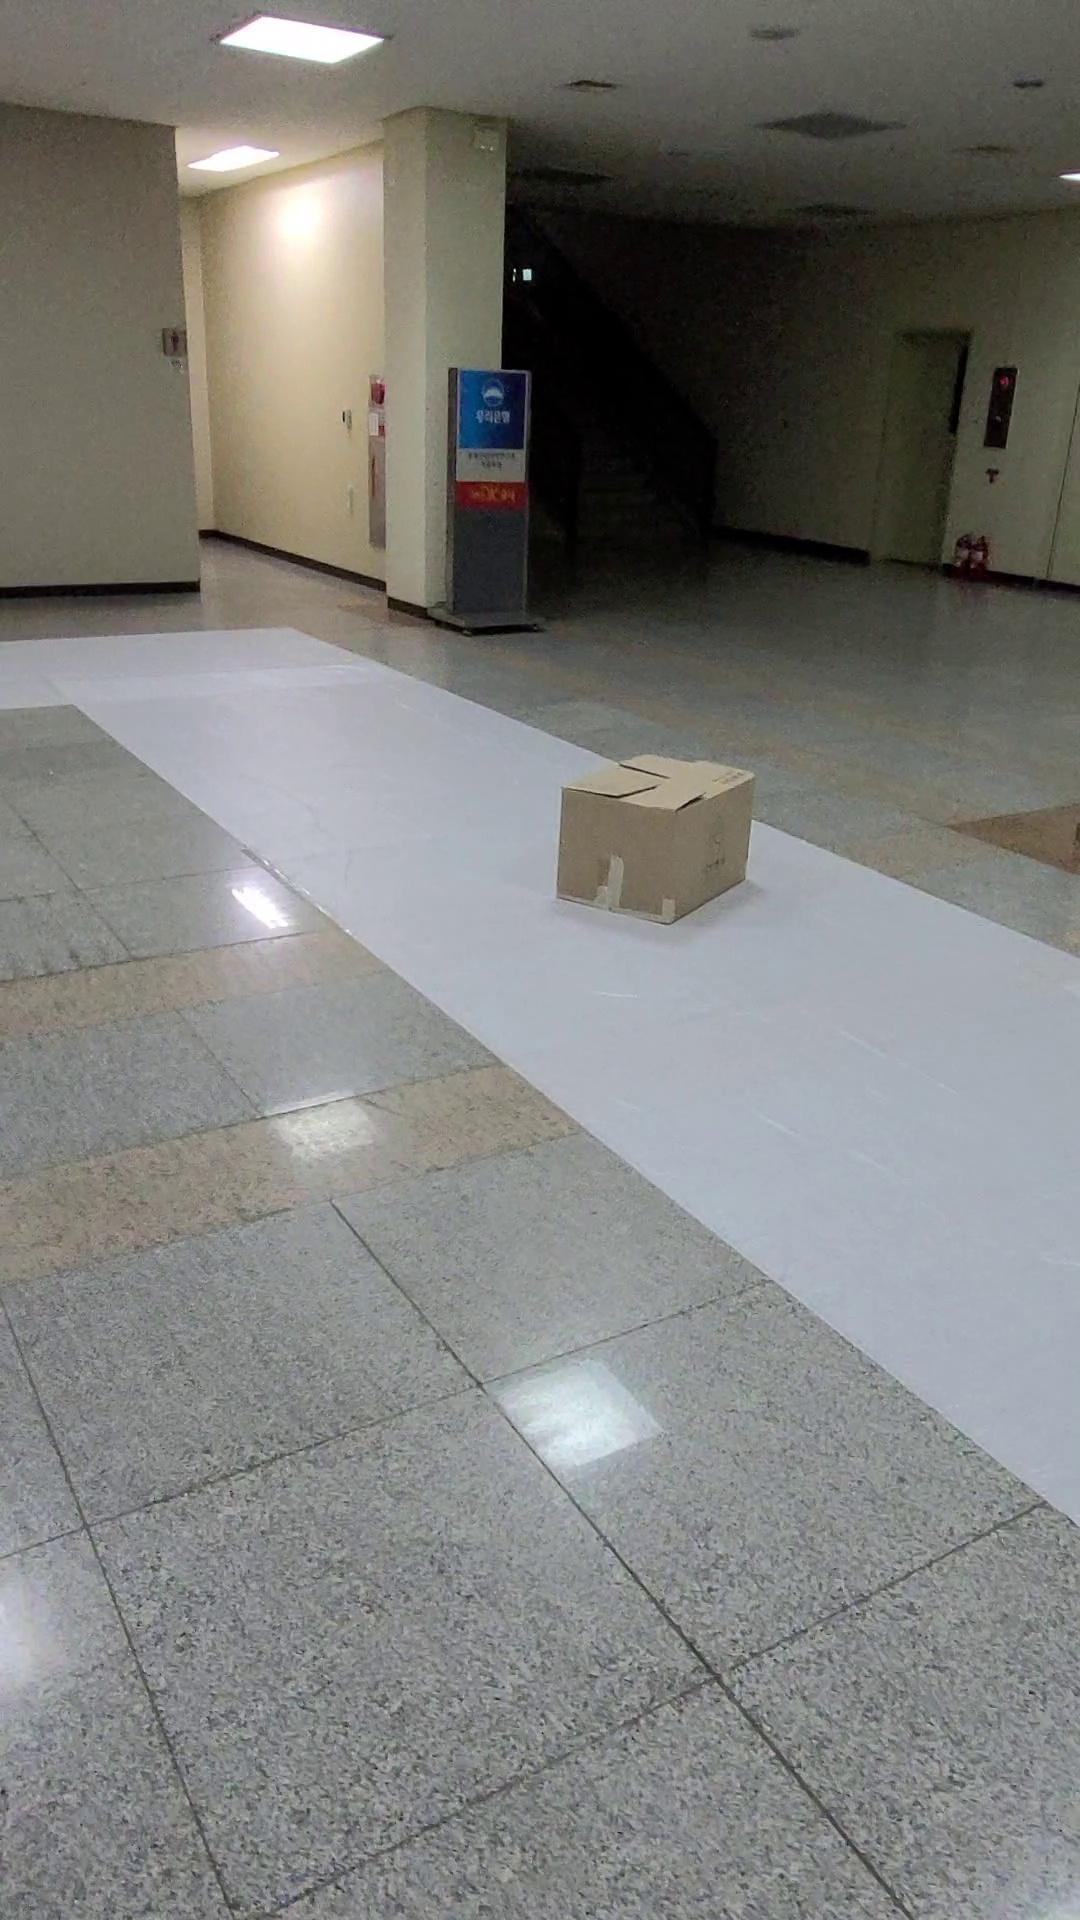Box: (516, 720, 796, 967)
